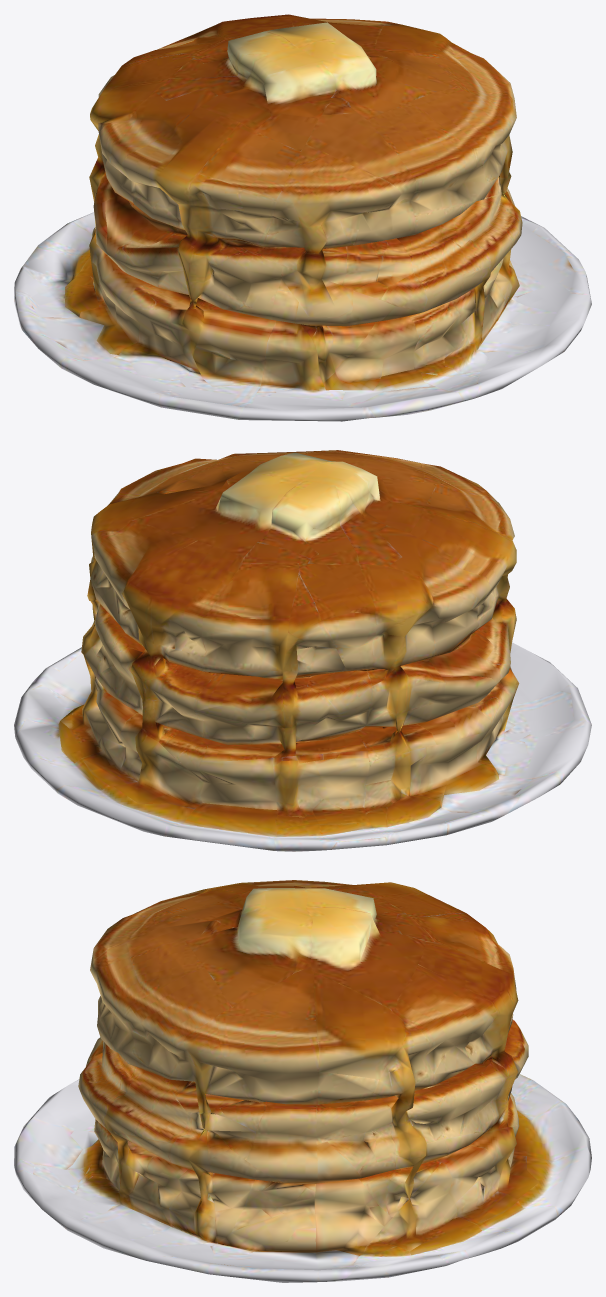
Rendered from pancake-stack-ar.glb.
The picture shows the model from 3 angles, top to bottom: view 1: azimuth 30°, elevation 25°; view 2: azimuth 150°, elevation 25°; view 3: azimuth 270°, elevation 25°; orthographic projection.
Visible parts, largest first — view 1: mesh_node; view 2: mesh_node; view 3: mesh_node.
Part boxes in pixels (<box>): mesh_node: <box>14,14,591,421</box>; mesh_node: <box>14,450,591,851</box>; mesh_node: <box>14,880,591,1282</box>.
Bounding box in the file's own units: 0.0241 × 0.0123 × 0.0241.
Materials: 1 (1 with a texture image).
